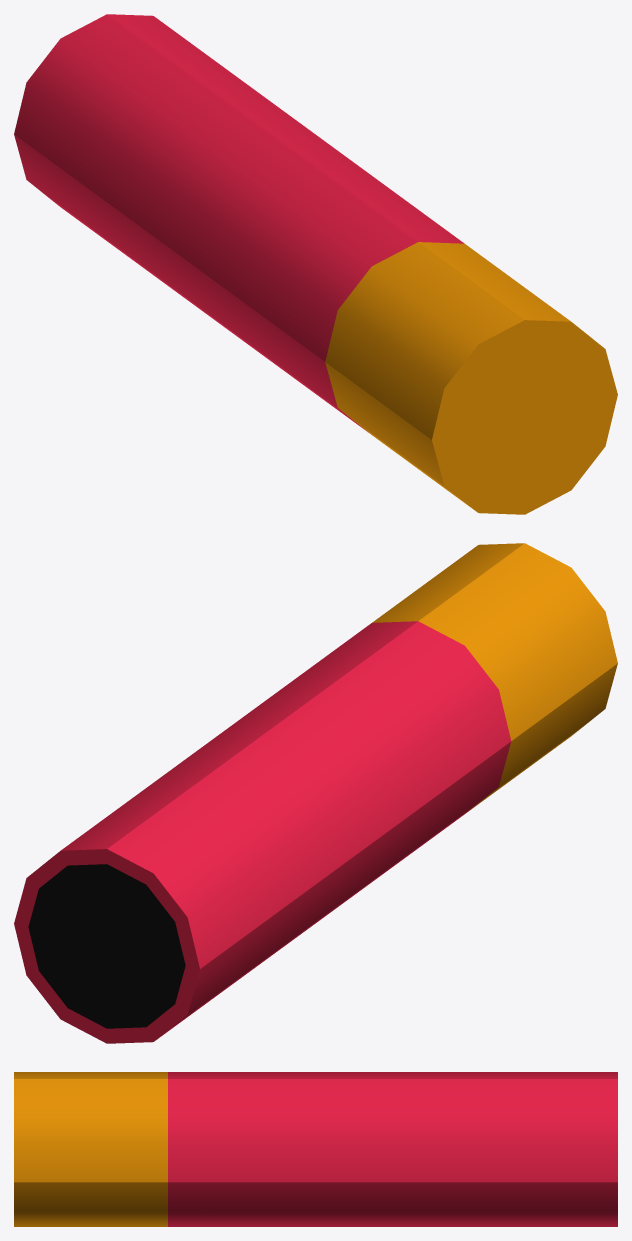
The model's file is 4 gauge casing base.fbx.
3 renders of one model, top to bottom at view 1: azimuth 30°, elevation 25°; view 2: azimuth 150°, elevation 25°; view 3: azimuth 270°, elevation 25°, orthographic. The views are drawn at different scales.
Parts seen in each view (by area): view 1: Cylinder; view 2: Cylinder; view 3: Cylinder.
Boxes of the visible parts, x1,y1,x2,y2 form: Cylinder: [14, 14, 617, 514]; Cylinder: [14, 543, 617, 1043]; Cylinder: [14, 1072, 617, 1226].
Bounding box in the file's own units: 0.023 × 0.023 × 0.0895.
